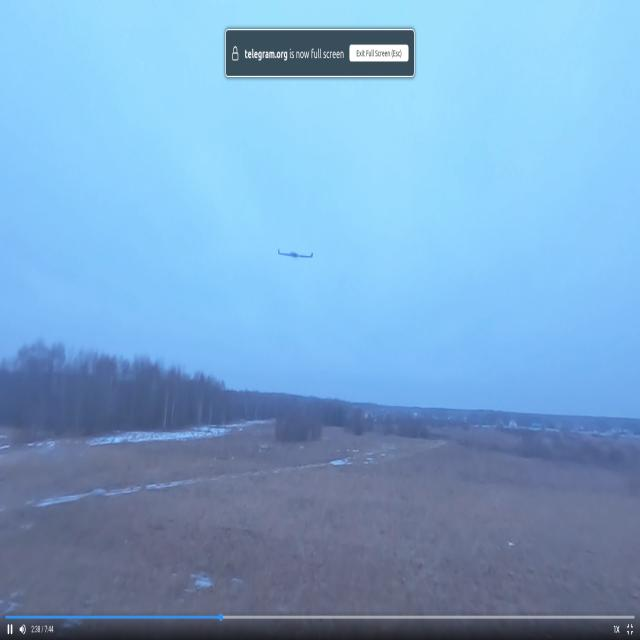planedrone: (277, 244, 313, 262)
